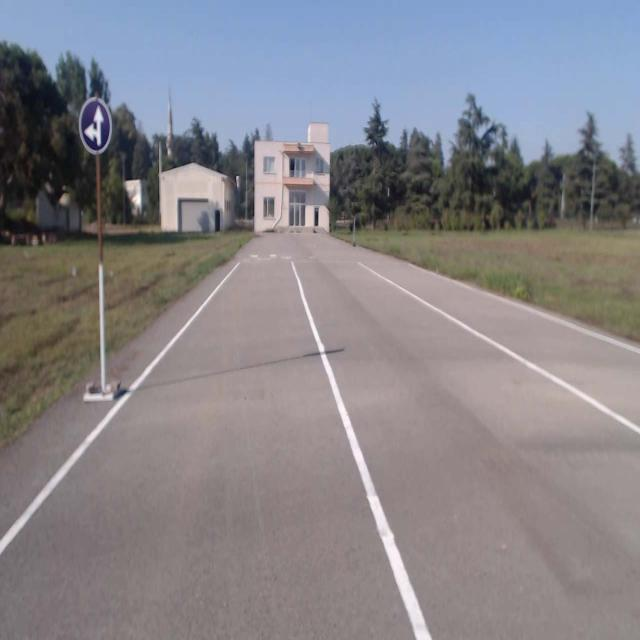ilerisol: (79, 97, 113, 154)
